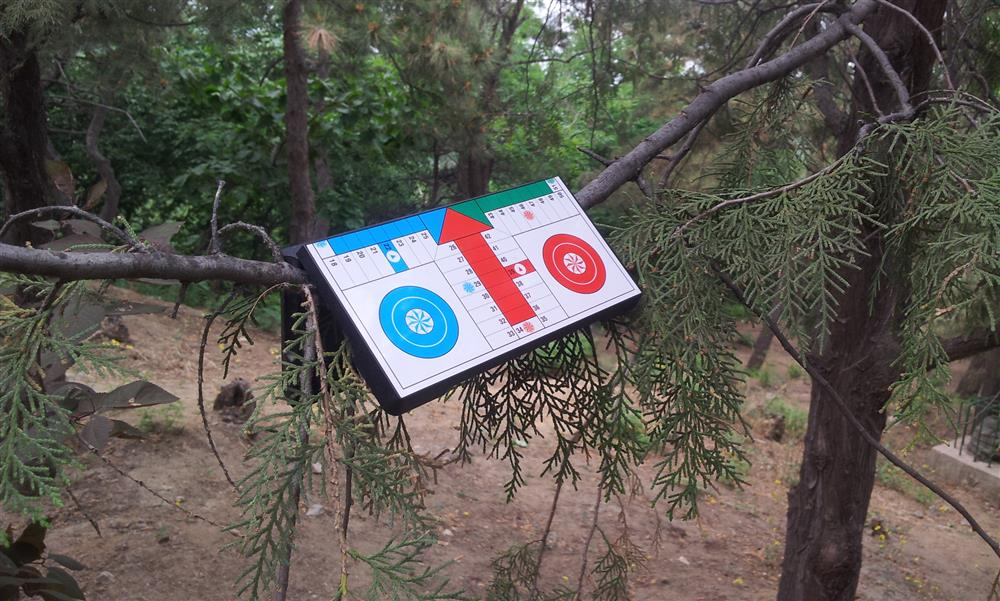parchis: (297, 156, 645, 408)
